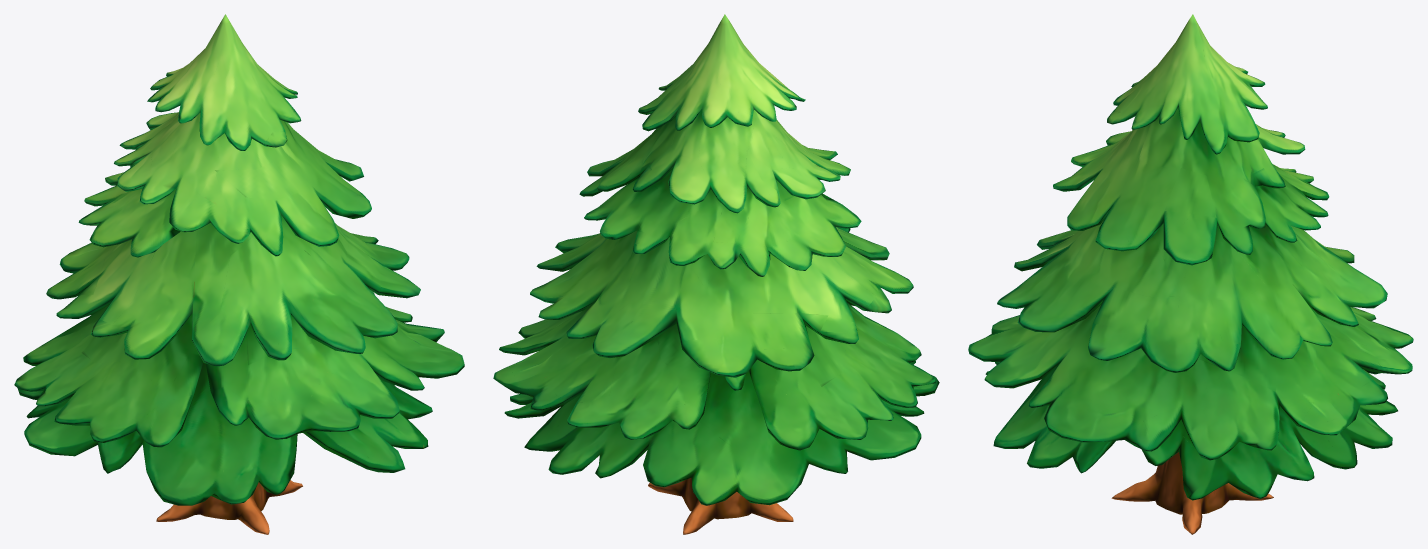
File: tree-pine.glb
3 views of the same model, side by side, from view 1: azimuth 30°, elevation 25°; view 2: azimuth 150°, elevation 25°; view 3: azimuth 270°, elevation 25° (orthographic).
Visible parts, largest first — view 1: geometry_0; view 2: geometry_0; view 3: geometry_0.
Boxes of the visible parts, left/top/right/bottom form: geometry_0: left=14, top=14, right=464, bottom=534; geometry_0: left=493, top=14, right=939, bottom=534; geometry_0: left=968, top=14, right=1413, bottom=534.
Size of the model in its own units: 0.8295 by 1 by 0.8343.
Materials: 1 (1 with a texture image).
